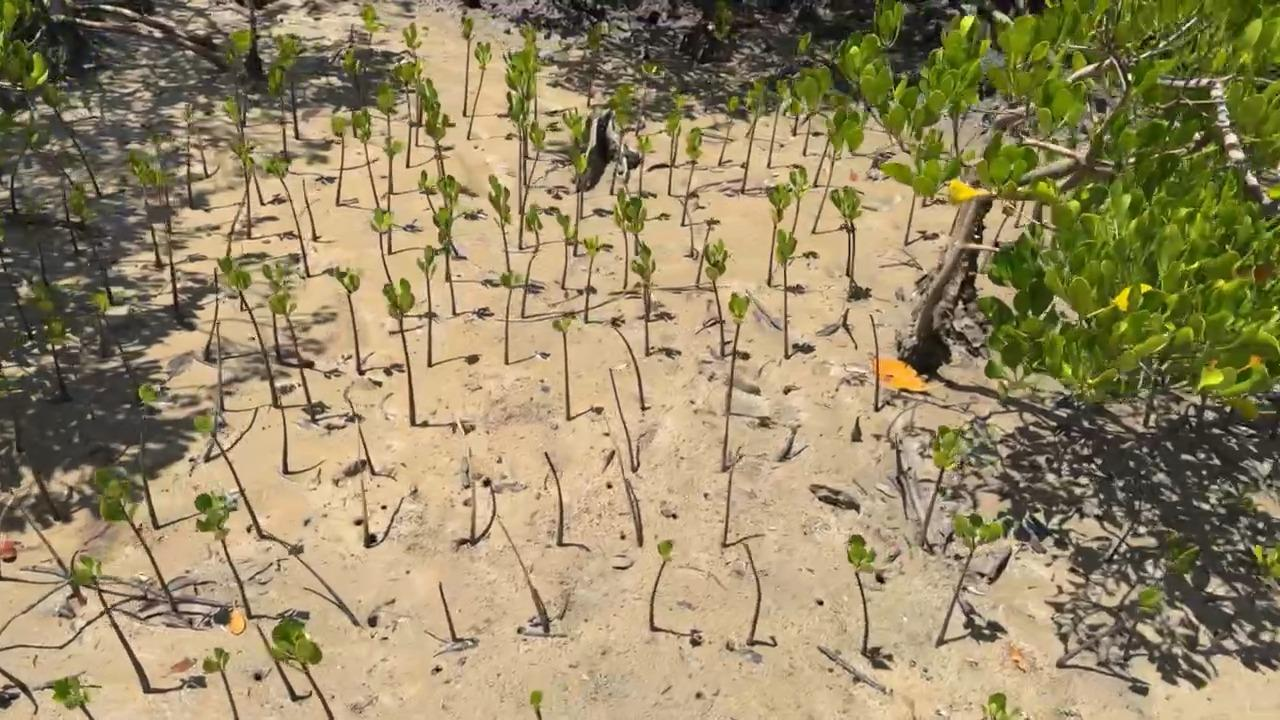Tree: (96, 465, 179, 613), (269, 292, 360, 425), (72, 555, 150, 692), (260, 525, 363, 628), (1057, 585, 1152, 696), (216, 257, 279, 409), (262, 262, 345, 377), (934, 513, 1002, 647), (264, 156, 338, 279), (193, 416, 263, 543), (355, 112, 422, 232), (332, 266, 405, 375), (371, 206, 437, 320), (194, 490, 252, 619), (812, 108, 867, 235), (226, 99, 290, 207), (233, 136, 298, 240), (919, 424, 972, 550), (497, 512, 549, 635), (19, 509, 87, 603), (434, 208, 492, 318), (43, 85, 101, 193), (64, 184, 116, 304), (631, 239, 682, 361), (184, 103, 241, 212), (487, 175, 541, 290), (272, 620, 334, 720), (522, 204, 573, 317), (563, 108, 613, 219), (553, 316, 605, 422), (721, 291, 752, 468), (775, 228, 816, 361), (382, 278, 418, 426), (610, 88, 657, 201), (467, 41, 519, 141), (518, 117, 557, 248), (565, 150, 612, 257), (462, 17, 510, 118), (500, 269, 550, 365), (94, 296, 140, 400), (504, 50, 547, 159), (332, 117, 381, 211), (830, 184, 869, 302), (544, 452, 590, 552), (32, 282, 70, 401), (215, 320, 262, 413), (766, 182, 805, 294), (395, 62, 436, 167), (844, 533, 878, 656), (378, 90, 418, 194), (137, 383, 165, 530), (680, 127, 721, 227), (741, 81, 777, 194), (554, 205, 598, 293), (584, 235, 625, 325), (611, 368, 646, 473), (129, 156, 162, 266), (349, 400, 394, 480), (10, 115, 47, 212), (280, 397, 324, 475), (255, 623, 297, 701), (0, 237, 32, 338), (360, 479, 405, 549), (786, 166, 819, 259), (704, 237, 730, 354), (504, 63, 535, 156), (621, 188, 648, 294), (666, 112, 699, 198), (766, 80, 798, 168), (612, 325, 645, 410), (869, 314, 897, 411), (202, 647, 239, 720), (417, 245, 439, 367), (276, 41, 301, 141), (650, 538, 676, 632), (636, 62, 667, 137), (509, 93, 534, 185), (422, 101, 452, 176), (618, 460, 644, 546), (722, 447, 744, 546), (229, 28, 252, 121), (268, 69, 293, 154), (695, 218, 723, 293), (744, 543, 764, 647), (670, 97, 700, 166), (718, 97, 748, 166), (303, 178, 334, 242), (903, 193, 939, 248), (437, 175, 461, 257), (471, 475, 499, 544), (52, 676, 94, 720), (166, 216, 184, 315), (0, 373, 21, 452), (342, 48, 368, 108), (1162, 539, 1204, 576), (1242, 543, 1280, 582), (25, 228, 50, 285), (438, 581, 456, 642), (198, 131, 220, 179), (803, 109, 824, 158), (986, 691, 1020, 720), (401, 23, 424, 63), (359, 7, 379, 52), (418, 171, 436, 214), (842, 308, 858, 350), (520, 22, 539, 51), (529, 691, 544, 720), (585, 79, 596, 108)
